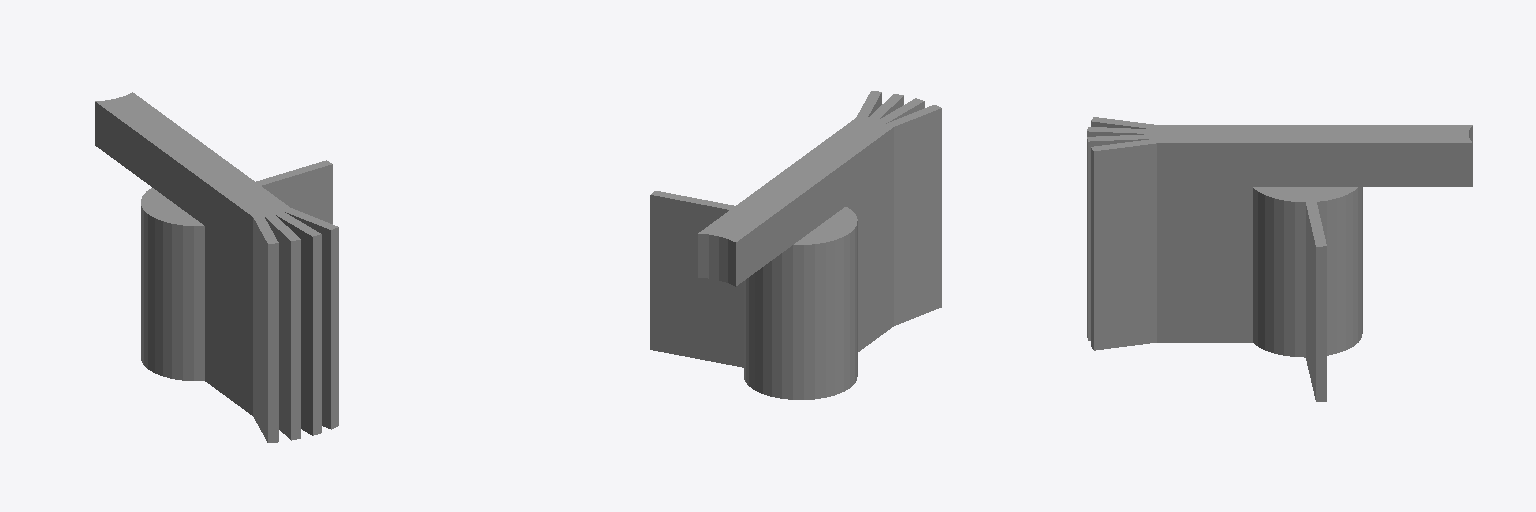
File: ComplexShape.obj
The picture shows the model from 3 angles: view 1: azimuth 30°, elevation 25°; view 2: azimuth 150°, elevation 25°; view 3: azimuth 270°, elevation 25°; orthographic projection.
Parts seen in each view (by area): view 1: Cylinder; view 2: Cylinder; view 3: Cylinder.
Part boxes in pixels (x1,y1,x2,y2): Cylinder: (95, 92, 338, 442); Cylinder: (650, 91, 941, 399); Cylinder: (1087, 117, 1472, 401).
Bounding box in the file's own units: 3.84 × 3.85 × 6.76.